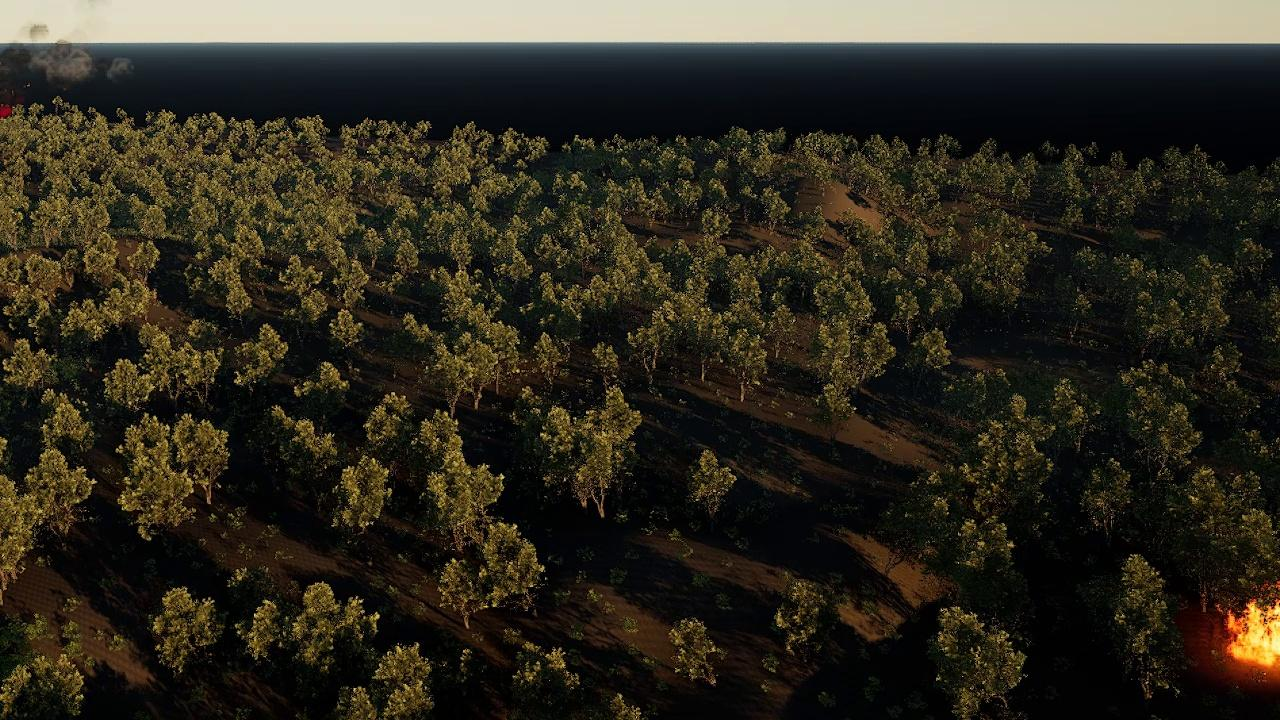fire: (1227, 600, 1280, 671), (0, 103, 14, 119)
smoke: (1, 0, 138, 102)
